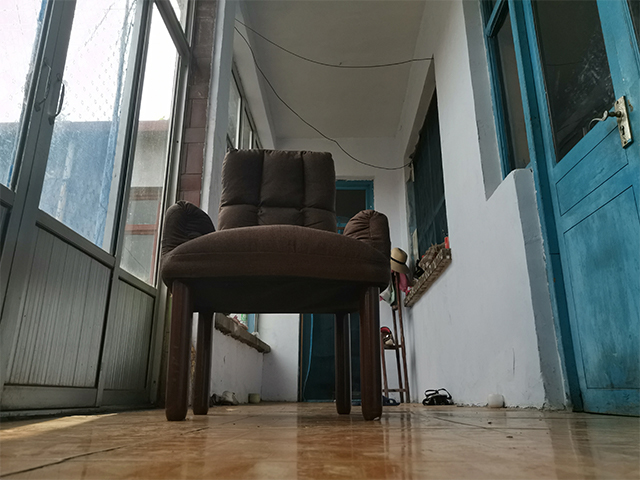stool: (156, 147, 394, 422)
